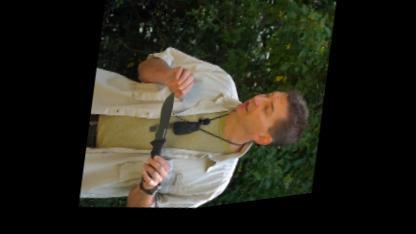knife: (138, 90, 176, 190)
